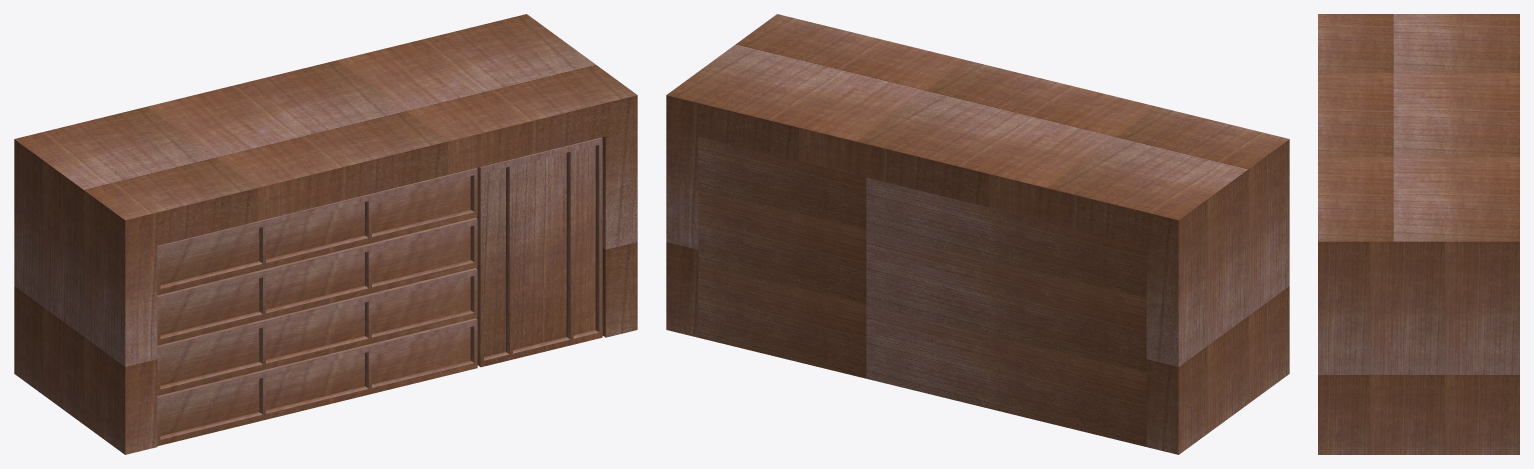
File: como.obj
3 renders of one model, left to right at view 1: azimuth 30°, elevation 25°; view 2: azimuth 150°, elevation 25°; view 3: azimuth 270°, elevation 25°, orthographic. The views are drawn at different scales.
Parts seen in each view (by area): view 1: Line35_1, Box57_10, Box54_5, Box55_7, Box53_3, Box56_9, Line40_11, Line37_4, Line38_6, Line39_8, Line36_2; view 2: Line35_1, Box58_12; view 3: Line35_1.
Boxes of the visible parts, x1,y1,x2,y2 form: Line35_1: (14,14,637,454); Box57_10: (476,146,595,356); Box54_5: (160,226,470,335); Box55_7: (160,277,470,385); Box53_3: (160,176,470,284); Box56_9: (160,327,470,435); Line40_11: (477,137,602,367); Line37_4: (157,217,477,345); Line38_6: (157,268,477,395); Line39_8: (157,318,477,446); Line36_2: (157,168,477,295); Line35_1: (666,14,1289,454); Box58_12: (698,136,1146,446); Line35_1: (1318,14,1519,454).
Size of the model in its own units: 160 by 70 by 60.
1 material, 1 textured.
